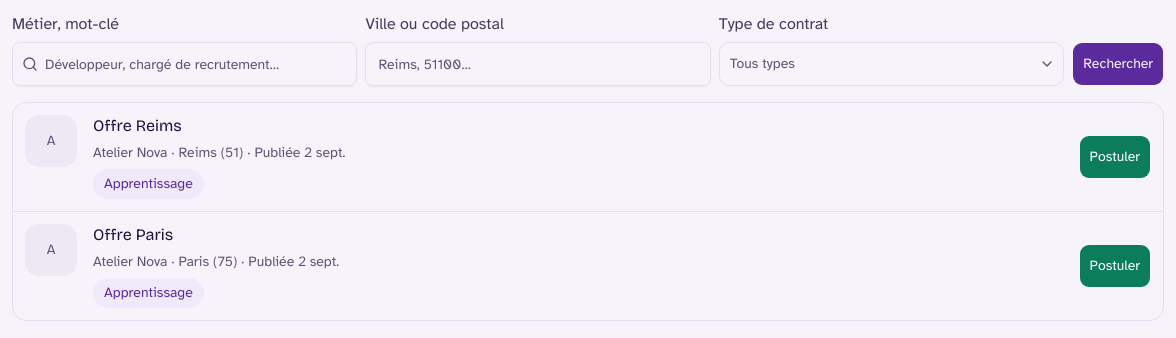
Test: OfferSearch › filters by location, case-insensitively
Type "reims" into the field labelled "Ville ou code postal". click: (538, 64)
box: [365,42,711,86]
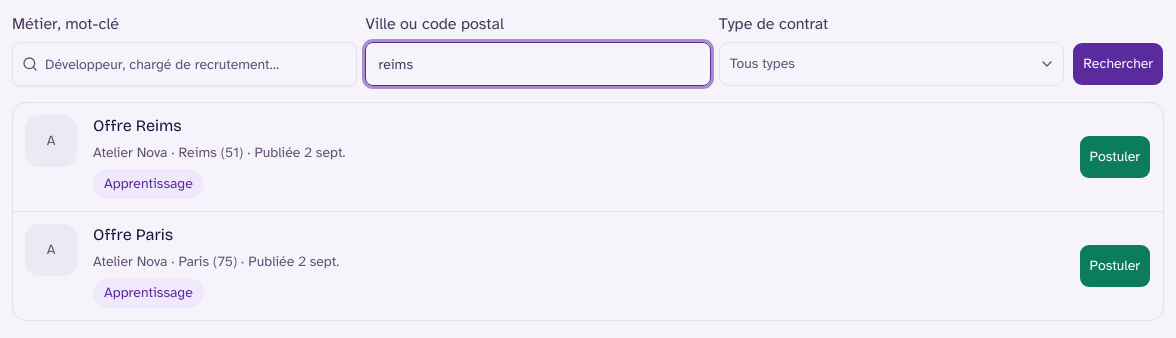
Click the button "Rechercher". click: (1118, 64)
box: [1072,42,1164,86]
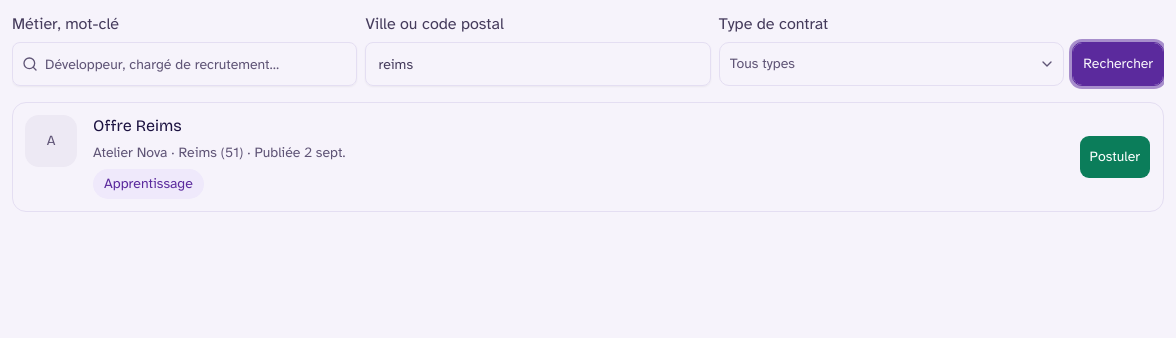
Expected: the text "Offre Reims" is shown, [93,116,182,135]
Expected: the text "Offre Paris" is gone
